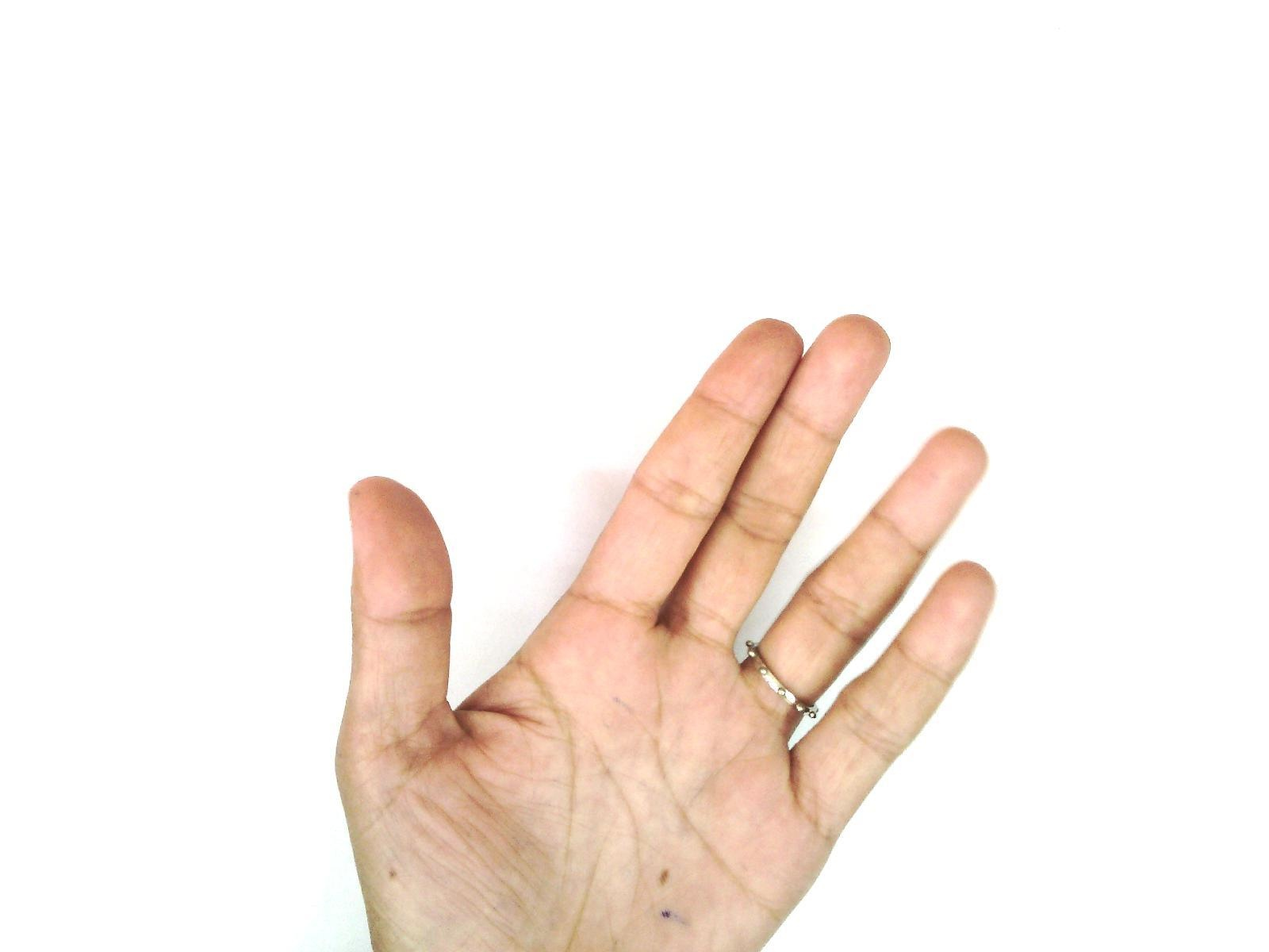open_palm: (332, 312, 999, 951)
